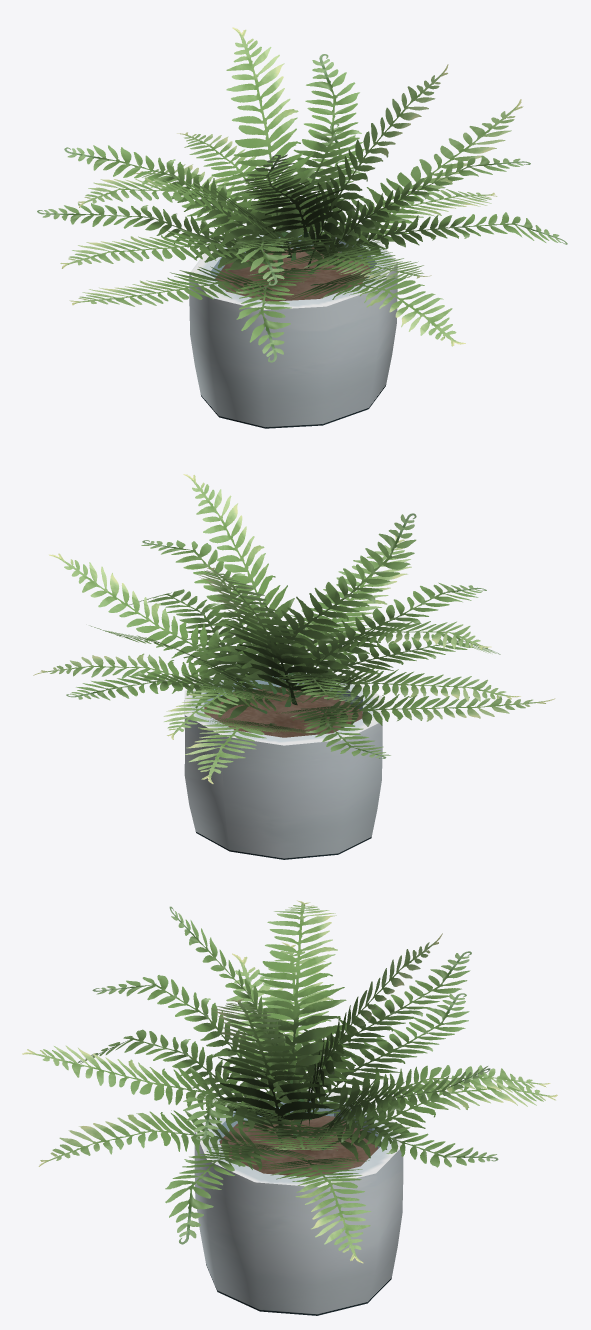
File: plant.FBX
The picture shows the model from 3 angles, top to bottom: view 1: azimuth 30°, elevation 25°; view 2: azimuth 150°, elevation 25°; view 3: azimuth 270°, elevation 25°; orthographic projection. The views are drawn at different scales.
Parts seen in each view (by area): view 1: plant; view 2: plant; view 3: plant.
Part boxes in pixels (x1,y1,x2,y2): plant: [37, 27, 567, 428]; plant: [33, 474, 555, 859]; plant: [22, 900, 557, 1315].
Bounding box in the file's own units: 236 × 139 × 203.
Materials: 1 (1 with a texture image).
